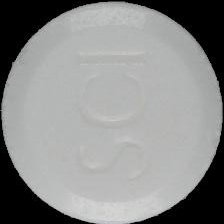44946-1015: (0, 0, 224, 224)
